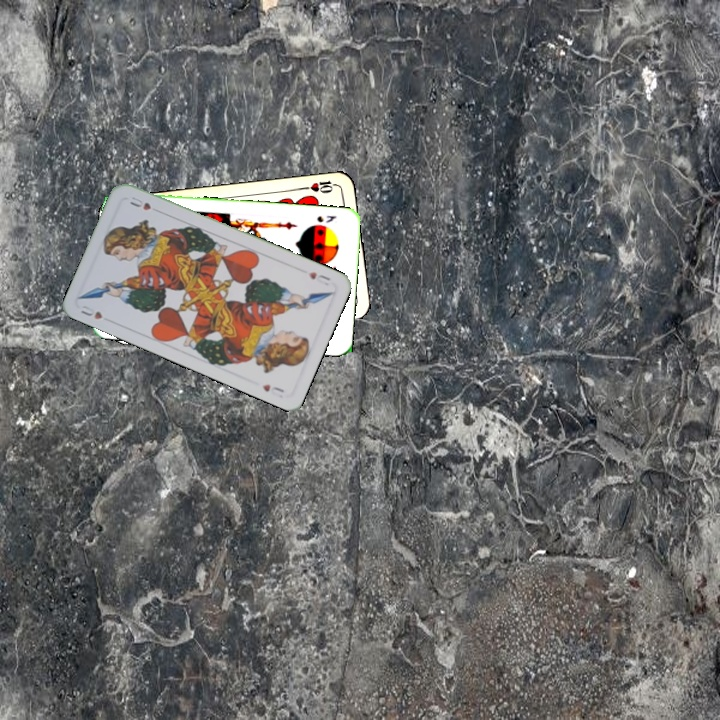H10: (300, 176, 340, 196)
HU: (77, 301, 105, 322), (304, 268, 333, 288)
SK: (313, 211, 339, 225)
